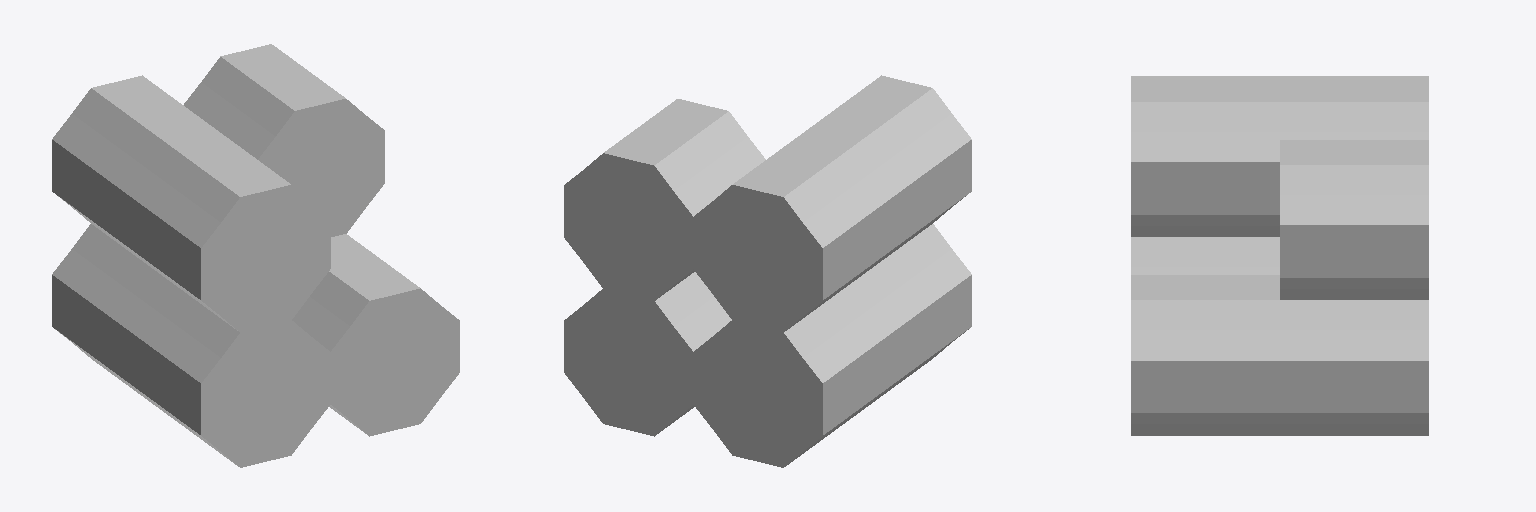
File: log_pile_7.obj
3 renders of one model, left to right at view 1: azimuth 30°, elevation 25°; view 2: azimuth 150°, elevation 25°; view 3: azimuth 270°, elevation 25°, orthographic.
Parts seen in each view (by area): view 1: log.005, log.003, log.001, log.002, log.006, log.004; view 2: log.006, log.004, log.002, log, log.005, log.003; view 3: log.001, log.005, log.002, log, log.006, log.003.
Boxes of the visible parts, x1=… form: log.005: x1=127, y1=130, x2=330, y2=331; log.003: x1=127, y1=278, x2=330, y2=467; log.001: x1=292, y1=234, x2=459, y2=436; log.002: x1=184, y1=44, x2=384, y2=236; log.006: x1=52, y1=75, x2=215, y2=276; log.004: x1=52, y1=224, x2=164, y2=412; log.006: x1=693, y1=130, x2=896, y2=331; log.004: x1=693, y1=278, x2=896, y2=467; log.002: x1=564, y1=99, x2=765, y2=300; log: x1=564, y1=272, x2=731, y2=436; log.005: x1=808, y1=75, x2=971, y2=276; log.003: x1=859, y1=224, x2=971, y2=412; log.001: x1=1131, y1=275, x2=1279, y2=435; log.005: x1=1131, y1=76, x2=1279, y2=236; log.002: x1=1280, y1=140, x2=1428, y2=299; log: x1=1280, y1=300, x2=1428, y2=435; log.006: x1=1280, y1=76, x2=1428, y2=139; log.003: x1=1131, y1=237, x2=1279, y2=274.
Size of the model in its own units: 1 by 1 by 1.